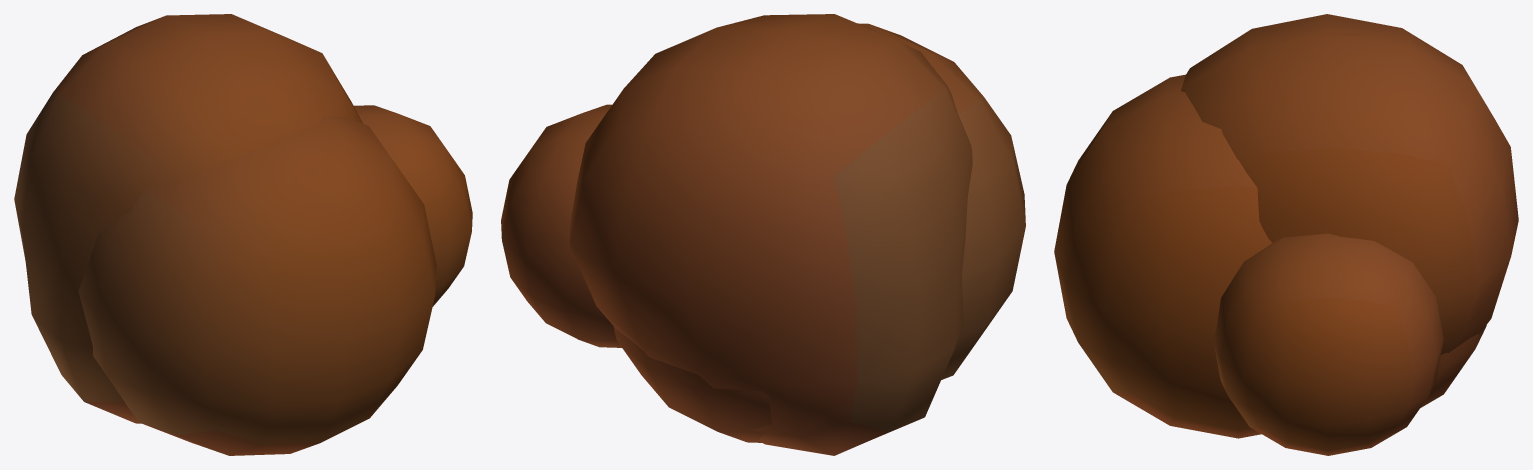
The model's file is Longgau.fbx.
3 views of the same model, side by side, from view 1: azimuth 30°, elevation 25°; view 2: azimuth 150°, elevation 25°; view 3: azimuth 270°, elevation 25° (orthographic). The views are drawn at different scales.
Parts seen in each view (by area): view 1: Longgau, Longgau4, Longgau1; view 2: Longgau4, Longgau1, Longgau; view 3: Longgau4, Longgau, Longgau1.
Part boxes in pixels (x1,y1,x2,y2): Longgau: (78, 115, 436, 455); Longgau4: (14, 14, 362, 423); Longgau1: (354, 105, 472, 306); Longgau4: (570, 14, 972, 455); Longgau1: (501, 104, 771, 442); Longgau: (858, 23, 1025, 379); Longgau4: (1181, 14, 1518, 354); Longgau: (1054, 74, 1272, 438); Longgau1: (1213, 233, 1486, 455).
Bounding box in the file's own units: 39.23 × 34.59 × 38.41.
